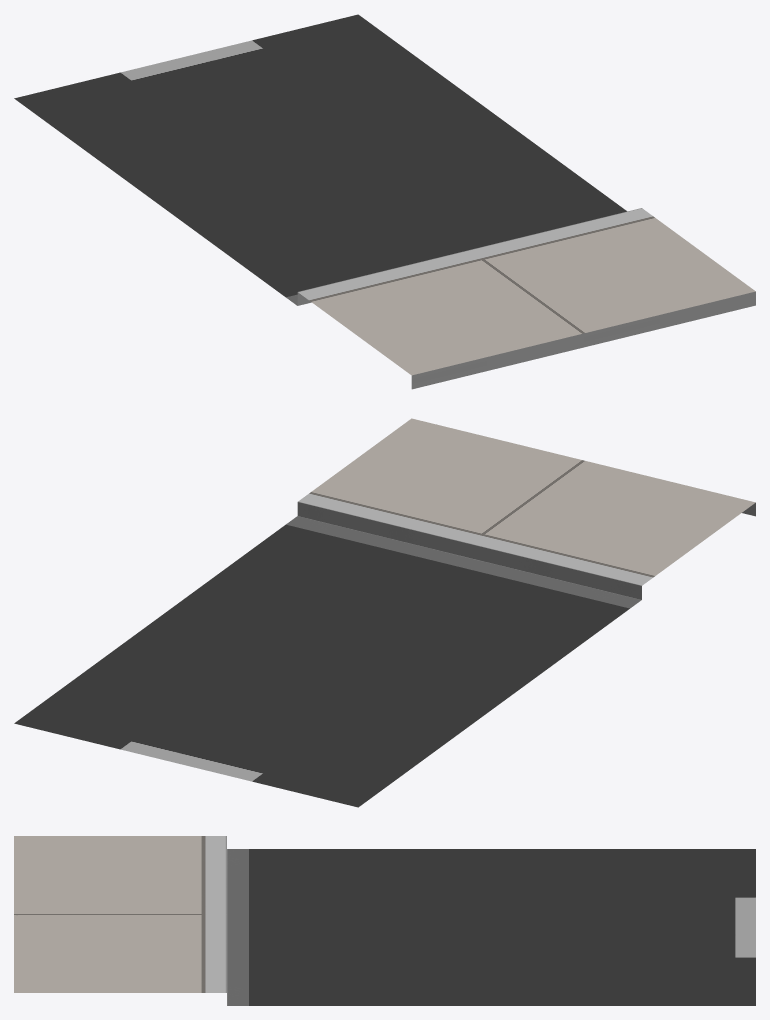
Rendered from road_straight_mesh.fbx.
3 views of the same model, one above another, from view 1: azimuth 30°, elevation 25°; view 2: azimuth 150°, elevation 25°; view 3: azimuth 270°, elevation 25° (orthographic). The views are drawn at different scales.
Visible parts, largest first — view 1: road_straight_mesh; view 2: road_straight_mesh; view 3: road_straight_mesh.
Part boxes in pixels (<box>): road_straight_mesh: <box>14,14,755,389</box>; road_straight_mesh: <box>14,418,755,807</box>; road_straight_mesh: <box>14,836,755,1005</box>.
Bounding box in the file's own units: 0.05 × 0.00195 × 0.1.
Materials: 1 (1 with a texture image).
